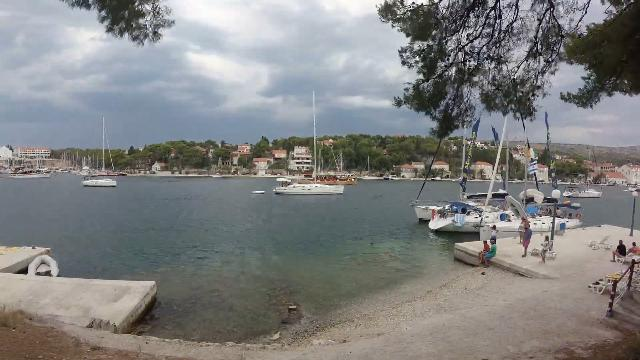Freighter: (298, 166, 362, 187), (5, 164, 57, 180)
Sailboat: (267, 172, 347, 198), (78, 173, 122, 189)
